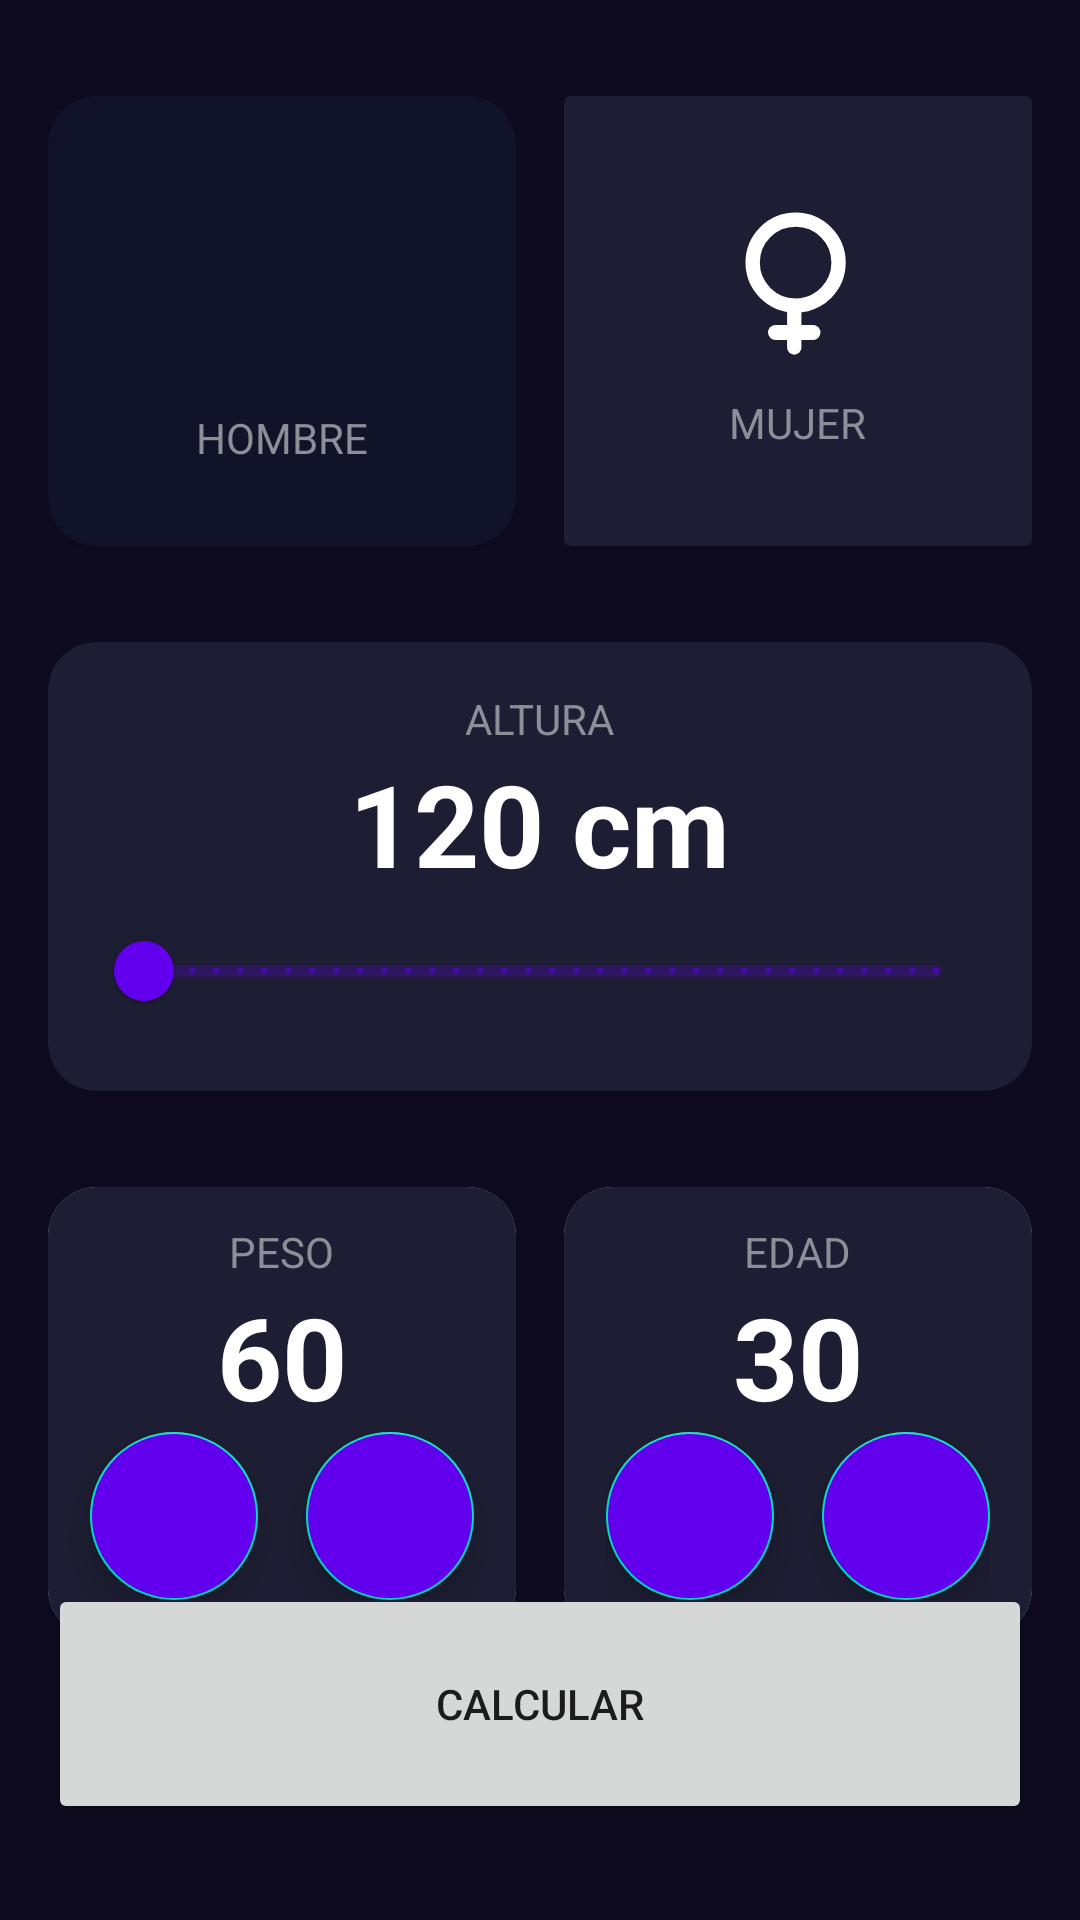

Screen size 1080*1920. Icon name, then its box in pixels as (x1, y1, x2, y2):
female: (745, 212, 846, 355)
